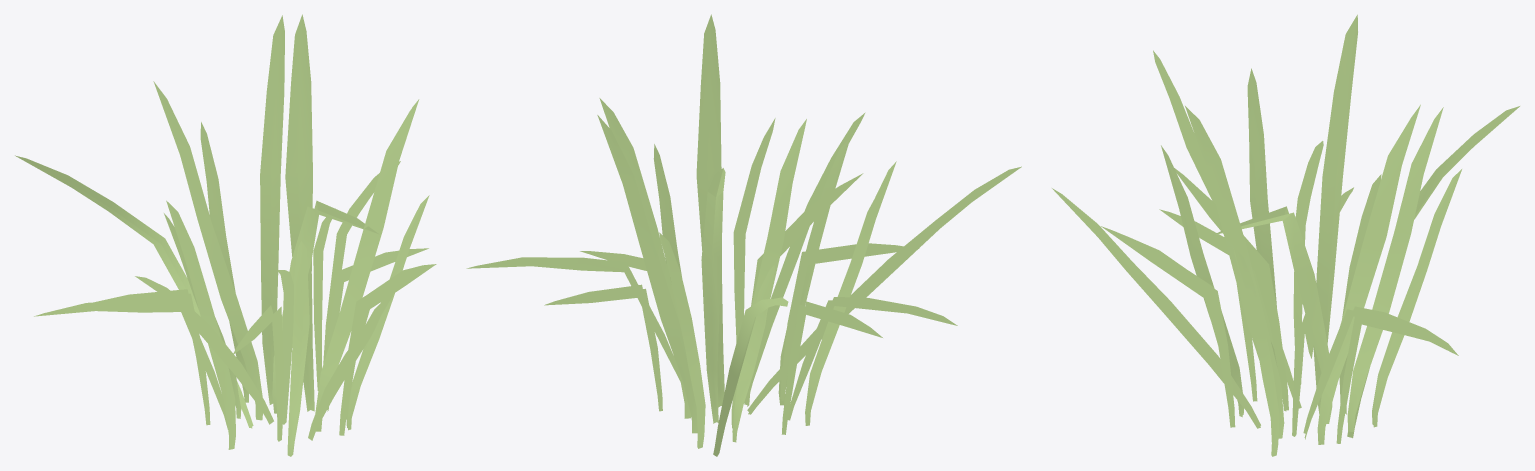
File: grass_wispy_short.glb
3 renders of one model, left to right at view 1: azimuth 30°, elevation 25°; view 2: azimuth 150°, elevation 25°; view 3: azimuth 270°, elevation 25°, orthographic. The views are drawn at different scales.
Parts seen in each view (by area): view 1: Grass_Wispy_Short; view 2: Grass_Wispy_Short; view 3: Grass_Wispy_Short.
Part boxes in pixels (<box>): Grass_Wispy_Short: <box>15,14,436,456</box>; Grass_Wispy_Short: <box>466,14,1021,456</box>; Grass_Wispy_Short: <box>1052,14,1519,456</box>.
Bounding box in the file's own units: 0.3701 × 0.3 × 0.3386.
